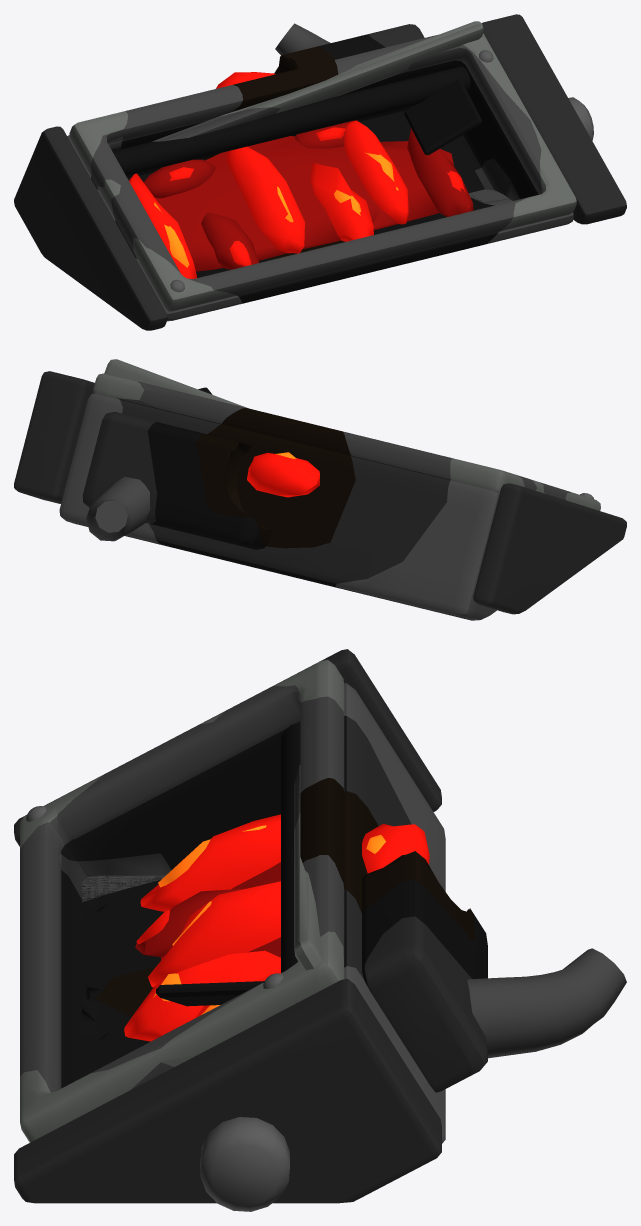
The model's file is cliff_bunker_top_wreck.glb.
3 views of the same model, one above another, from view 1: azimuth 30°, elevation 25°; view 2: azimuth 150°, elevation 25°; view 3: azimuth 270°, elevation 25° (orthographic). The views are drawn at different scales.
Visible parts, largest first — view 1: frame.001, bracket0.001, box.001, fire0.001, bracket1.001, roll.001, brow.001, fire3.001, slat0.001, fire5.001, fire4.001, mount.001 (+9 smaller); view 2: box.001, mount.001, bracket0.001, frame.001, bracket1.001, strut_stub.001, mount_ember.001, brow.001; view 3: bracket1.001, frame.001, box.001, mount.001, strut_stub.001, knob1.001, fire3.001, fire1.001, fire4.001, bracket0.001, roll.001, brow.001 (+4 smaller).
Boxes of the visible parts, left/top/right/bottom form: frame.001: left=69, top=33, right=576, bottom=311; bracket0.001: left=14, top=126, right=167, bottom=330; box.001: left=67, top=60, right=573, bottom=321; fire0.001: left=155, top=136, right=453, bottom=271; bracket1.001: left=482, top=14, right=626, bottom=224; roll.001: left=112, top=66, right=470, bottom=175; brow.001: left=151, top=21, right=483, bottom=141; fire3.001: left=226, top=146, right=304, bottom=253; slat0.001: left=404, top=79, right=482, bottom=155; fire5.001: left=343, top=120, right=408, bottom=224; fire4.001: left=310, top=162, right=373, bottom=241; mount.001: left=274, top=24, right=424, bottom=73; box.001: left=59, top=393, right=499, bottom=620; mount.001: left=82, top=412, right=271, bottom=549; bracket0.001: left=473, top=483, right=626, bottom=614; frame.001: left=93, top=373, right=600, bottom=510; bracket1.001: left=14, top=371, right=94, bottom=503; strut_stub.001: left=86, top=477, right=150, bottom=541; mount_ember.001: left=247, top=452, right=319, bottom=497; brow.001: left=104, top=359, right=248, bottom=408; bracket1.001: left=14, top=978, right=441, bottom=1203; frame.001: left=20, top=659, right=344, bottom=1142; box.001: left=61, top=682, right=445, bottom=1143; mount.001: left=362, top=851, right=487, bottom=1092; strut_stub.001: left=466, top=948, right=626, bottom=1058; knob1.001: left=200, top=1117, right=289, bottom=1211; fire3.001: left=148, top=881, right=280, bottom=987; fire1.001: left=140, top=814, right=280, bottom=911; fire4.001: left=124, top=950, right=280, bottom=1041; bracket0.001: left=14, top=649, right=441, bottom=846; roll.001: left=281, top=722, right=300, bottom=972; brow.001: left=294, top=765, right=323, bottom=970.
Size of the model in its own units: 21.25 by 5.58 by 14.23.
